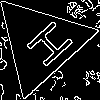H: (16, 18, 76, 76)
